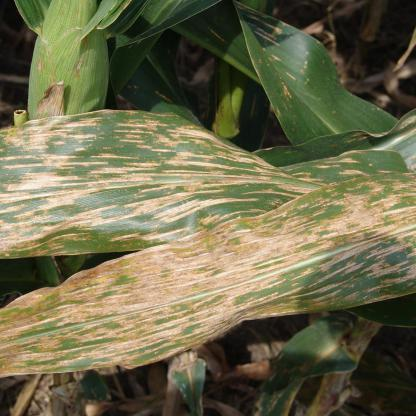Corn leaf blight: (0, 171, 414, 377), (2, 119, 416, 256)
